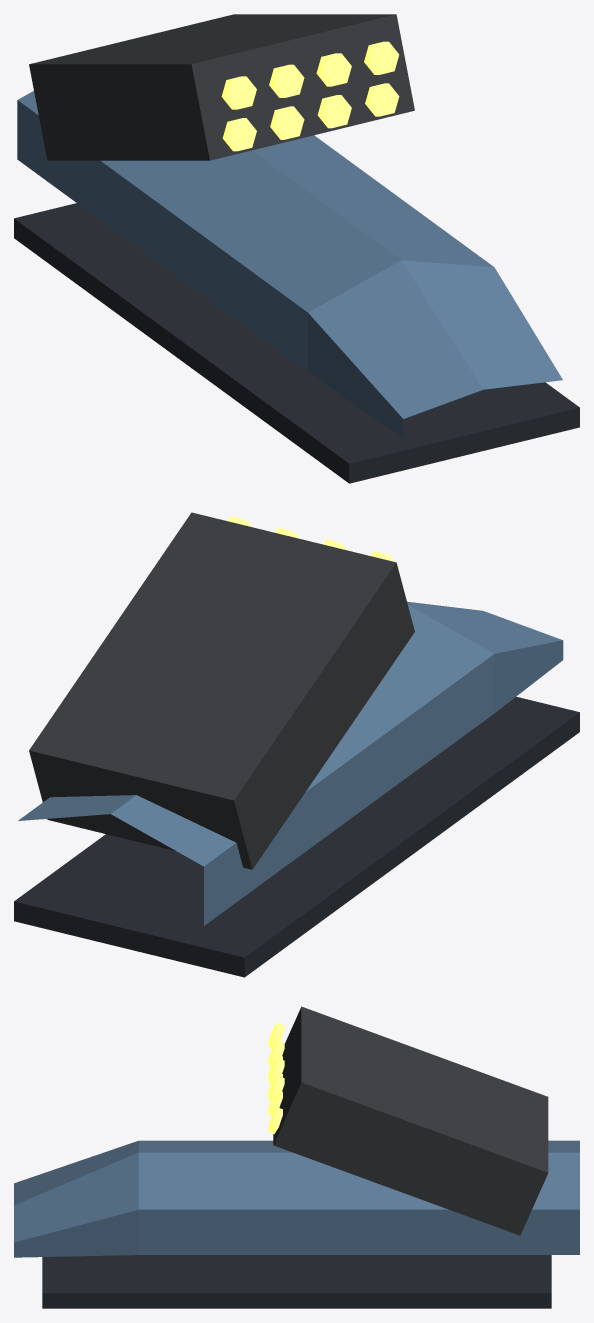
Rendered from veh_ground_rocket_launcher_a10.glb.
3 views of the same model, one above another, from view 1: azimuth 30°, elevation 25°; view 2: azimuth 150°, elevation 25°; view 3: azimuth 270°, elevation 25° (orthographic). The views are drawn at different scales.
Visible parts, largest first — view 1: body, launcher; view 2: launcher, body; view 3: body, launcher.
Part boxes in pixels (x1,y1,x2,y2): body: (14, 91, 579, 483); launcher: (29, 14, 414, 160); launcher: (29, 512, 414, 869); body: (14, 601, 579, 977); body: (14, 1140, 579, 1308); launcher: (268, 1006, 548, 1235).
Size of what is drawn, in the model's own units: 2.43 by 2.97 by 6.8.
